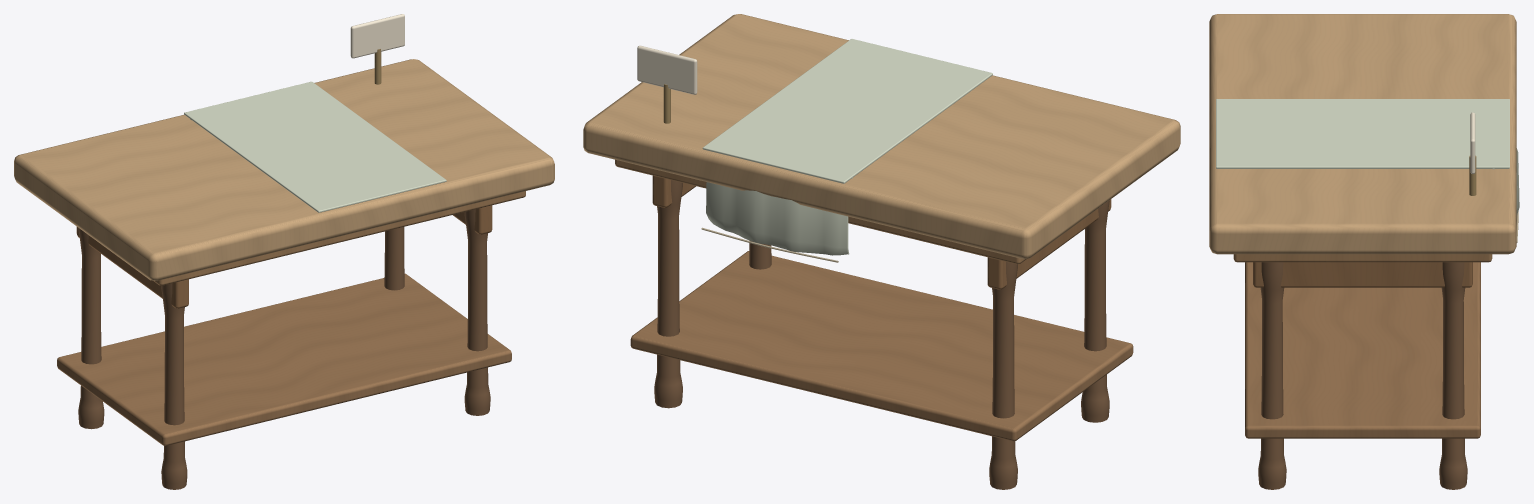
Rendered from display-3.glb.
3 renders of one model, left to right at view 1: azimuth 30°, elevation 25°; view 2: azimuth 150°, elevation 25°; view 3: azimuth 270°, elevation 25°, orthographic. The views are drawn at different scales.
Parts seen in each view (by area): view 1: display-3; view 2: display-3; view 3: display-3.
Part boxes in pixels (bbox=[...]): display-3: bbox=[14, 14, 554, 489]; display-3: bbox=[583, 14, 1180, 489]; display-3: bbox=[1209, 14, 1519, 489].
Size of the model in its own units: 1.58 by 1.21 by 0.9596.
9 materials, 7 textured.
